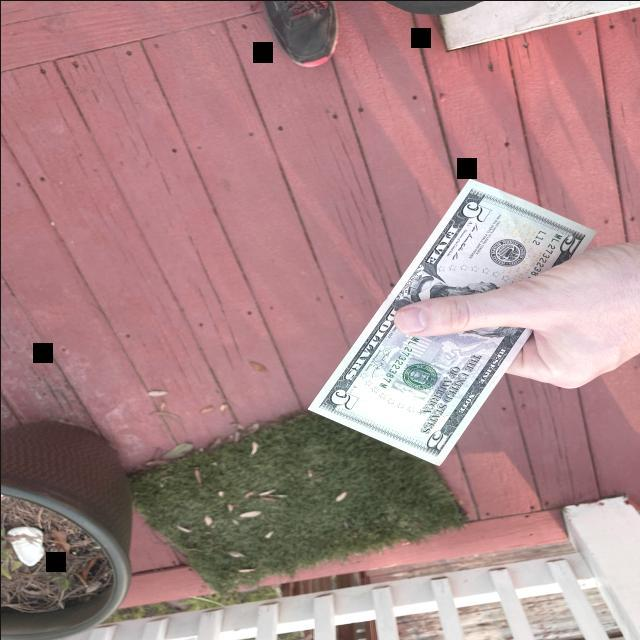five: (307, 179, 596, 464)
